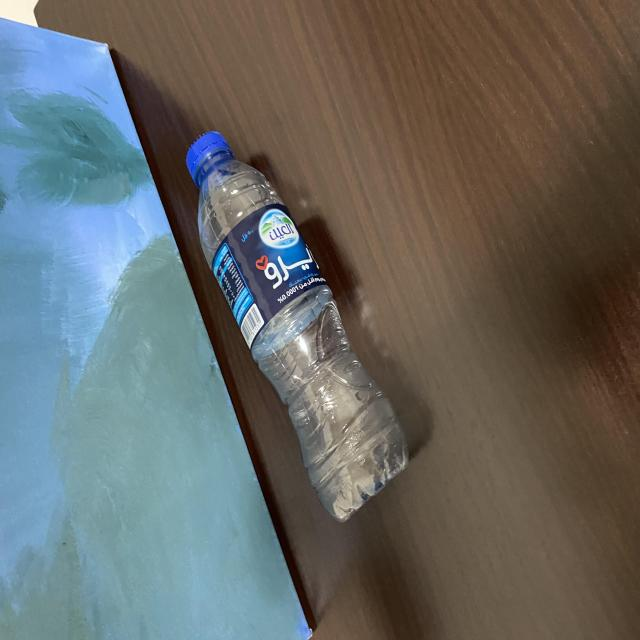bottle: (177, 127, 420, 536)
